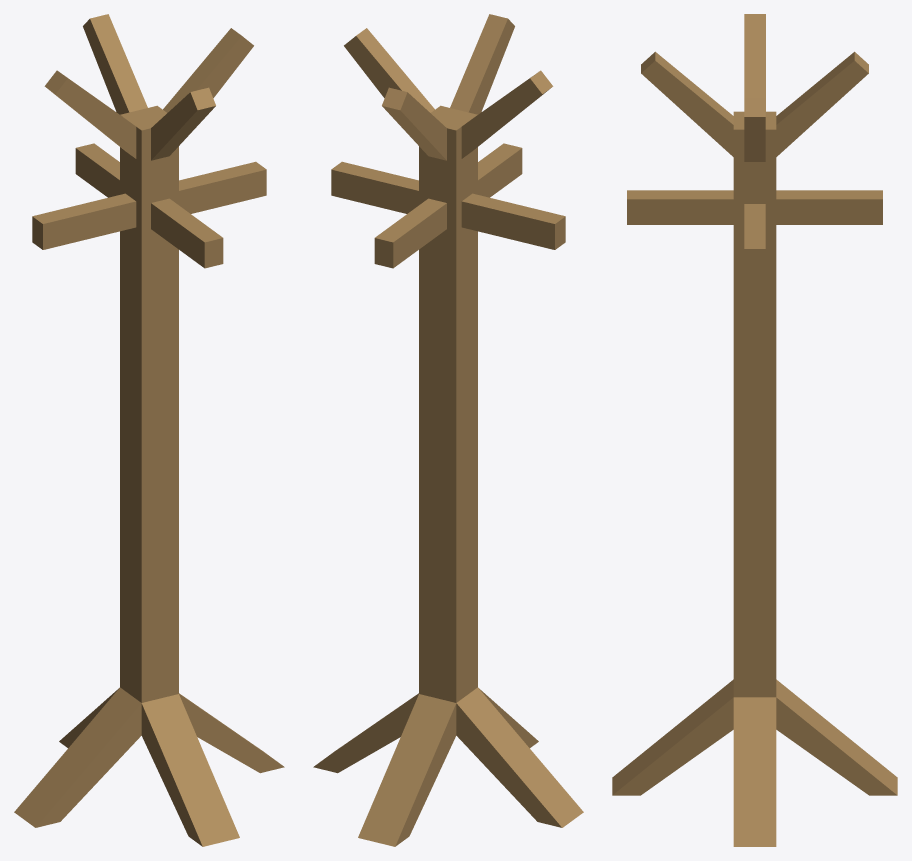
File: coat_stand.glb
3 renders of one model, left to right at view 1: azimuth 30°, elevation 25°; view 2: azimuth 150°, elevation 25°; view 3: azimuth 270°, elevation 25°, orthographic.
Visible parts, largest first — view 1: coat_stand; view 2: coat_stand; view 3: coat_stand.
Part boxes in pixels (left/top/right/bottom): coat_stand: left=14, top=14, right=284, bottom=846; coat_stand: left=313, top=14, right=583, bottom=846; coat_stand: left=612, top=14, right=897, bottom=846.
Bounding box in the file's own units: 0.62 × 1.75 × 0.62.
